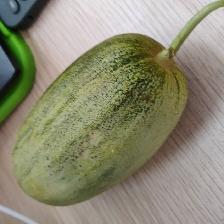gua: (79, 54, 170, 166)
